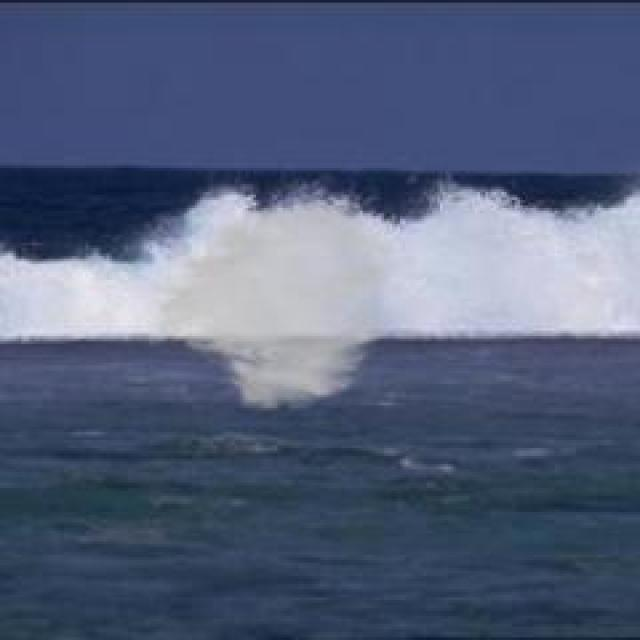smoke: (139, 196, 401, 415)
